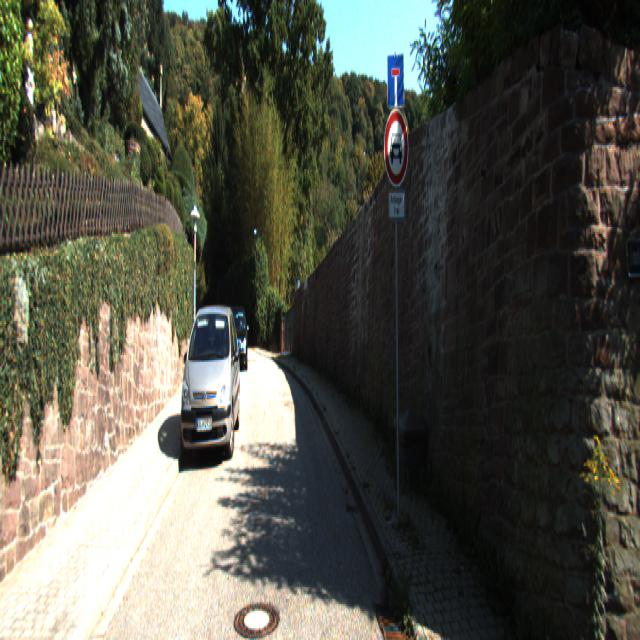Car: (177, 296, 242, 472), (222, 306, 248, 376)
